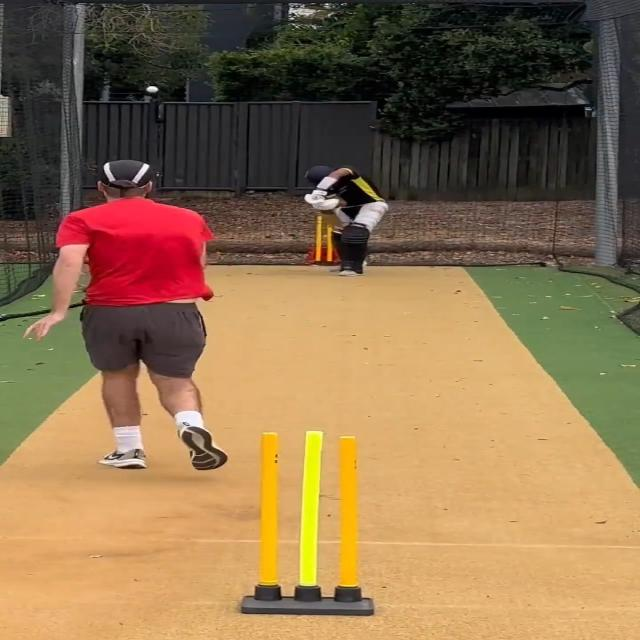ball: (144, 85, 160, 96)
stump: (240, 430, 377, 616)
